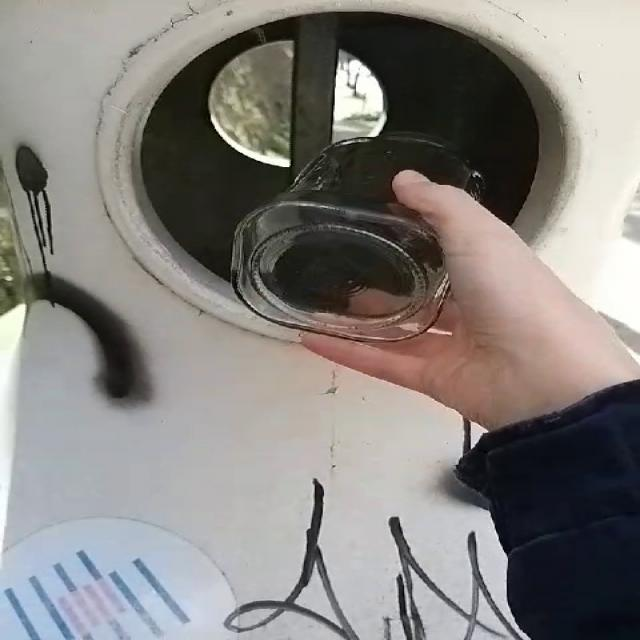glass: (232, 132, 481, 342)
